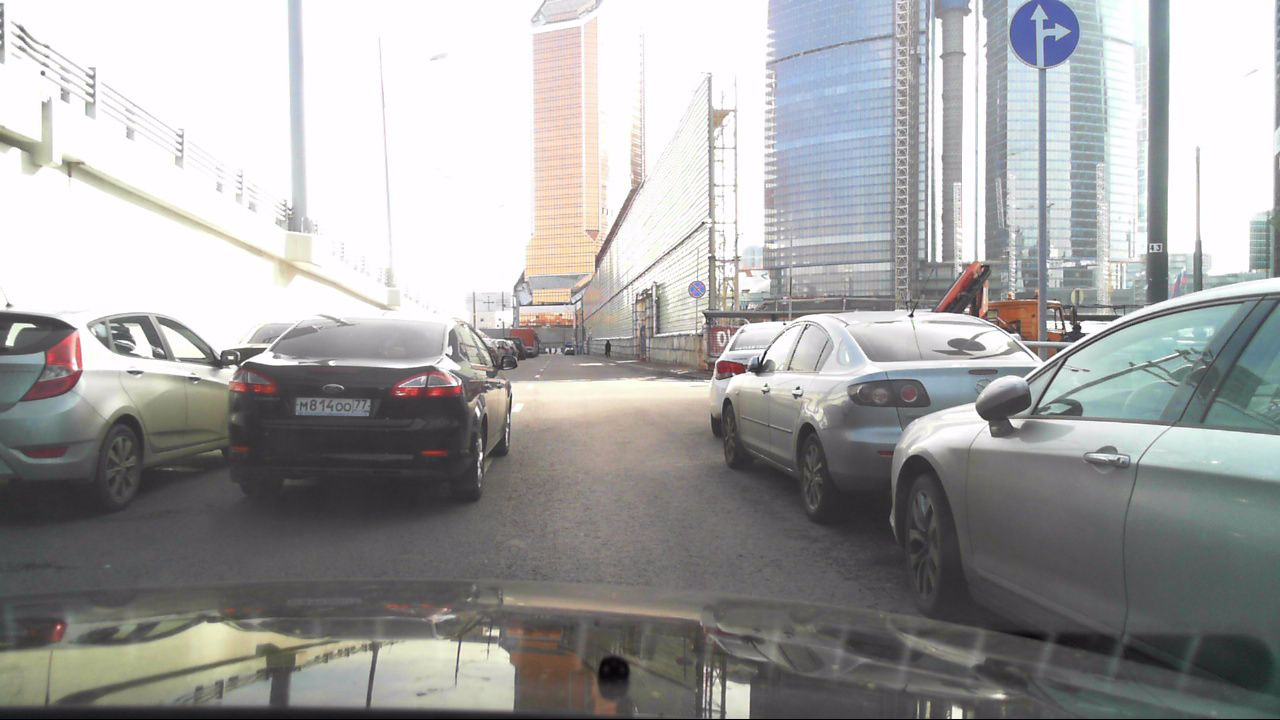No Parking: (688, 280, 705, 300)
